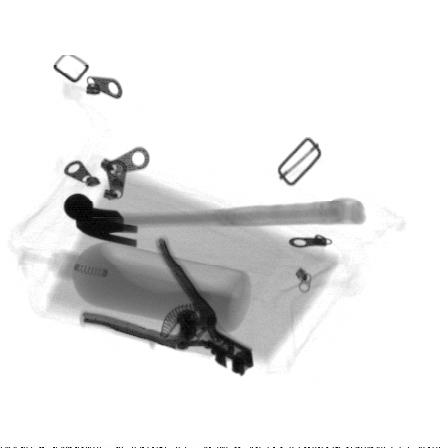Hammer: (64, 193, 367, 249)
Pliers: (78, 236, 254, 377)
